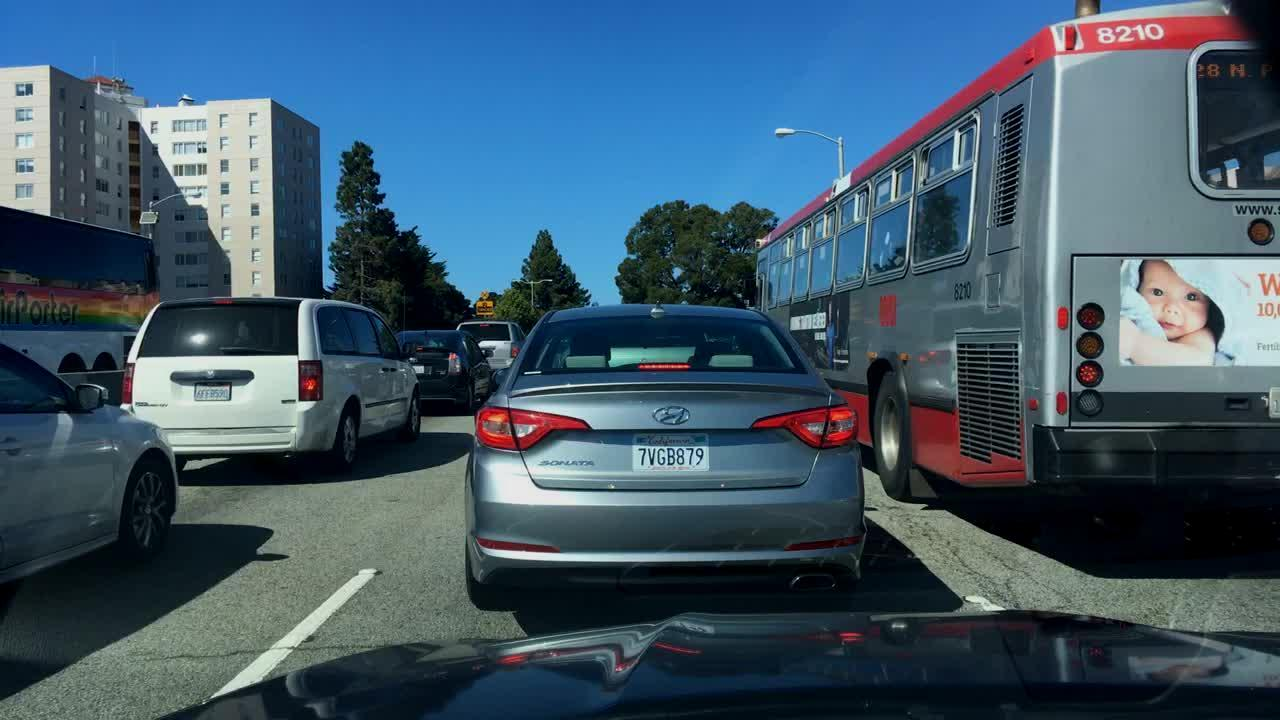Hyundai: (639, 394, 711, 434)
